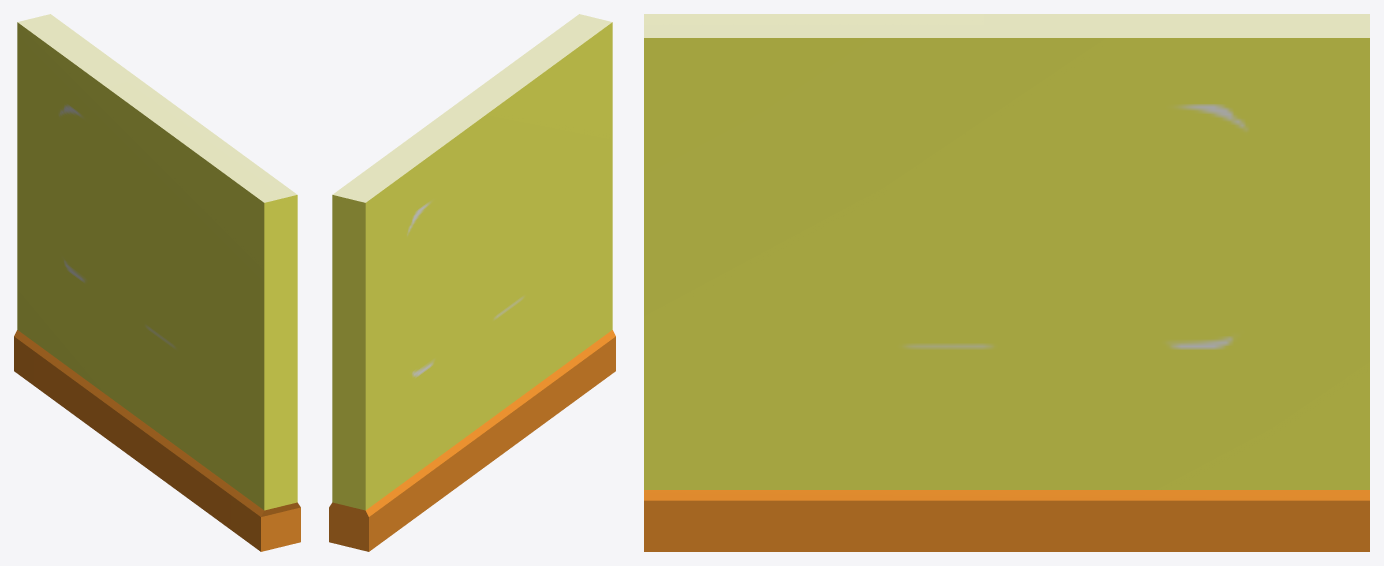
The model's file is Wall_01.fbx.
3 views of the same model, side by side, from view 1: azimuth 30°, elevation 25°; view 2: azimuth 150°, elevation 25°; view 3: azimuth 270°, elevation 25° (orthographic). The views are drawn at different scales.
Visible parts, largest first — view 1: Wall_01; view 2: Wall_01; view 3: Wall_01.
Boxes of the visible parts, bbox=[...] form: Wall_01: bbox=[14, 14, 300, 551]; Wall_01: bbox=[329, 14, 615, 551]; Wall_01: bbox=[644, 14, 1369, 551].
Size of the model in its own units: 14.18 by 118 by 152.
